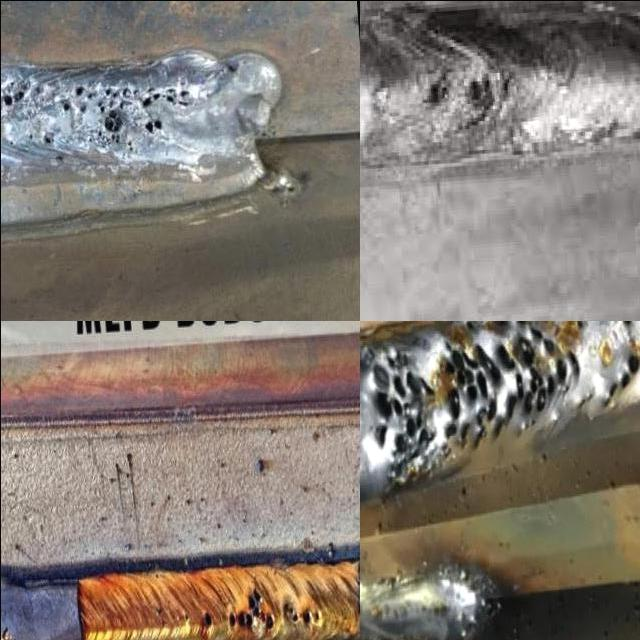defect: (359, 320, 583, 500), (59, 74, 198, 154), (595, 346, 640, 414), (224, 581, 276, 635), (468, 68, 518, 123), (424, 69, 460, 124), (0, 72, 34, 118), (283, 601, 323, 626), (37, 126, 57, 151), (155, 607, 167, 630), (201, 606, 213, 629), (620, 320, 634, 335), (183, 612, 192, 626), (574, 320, 583, 331)
